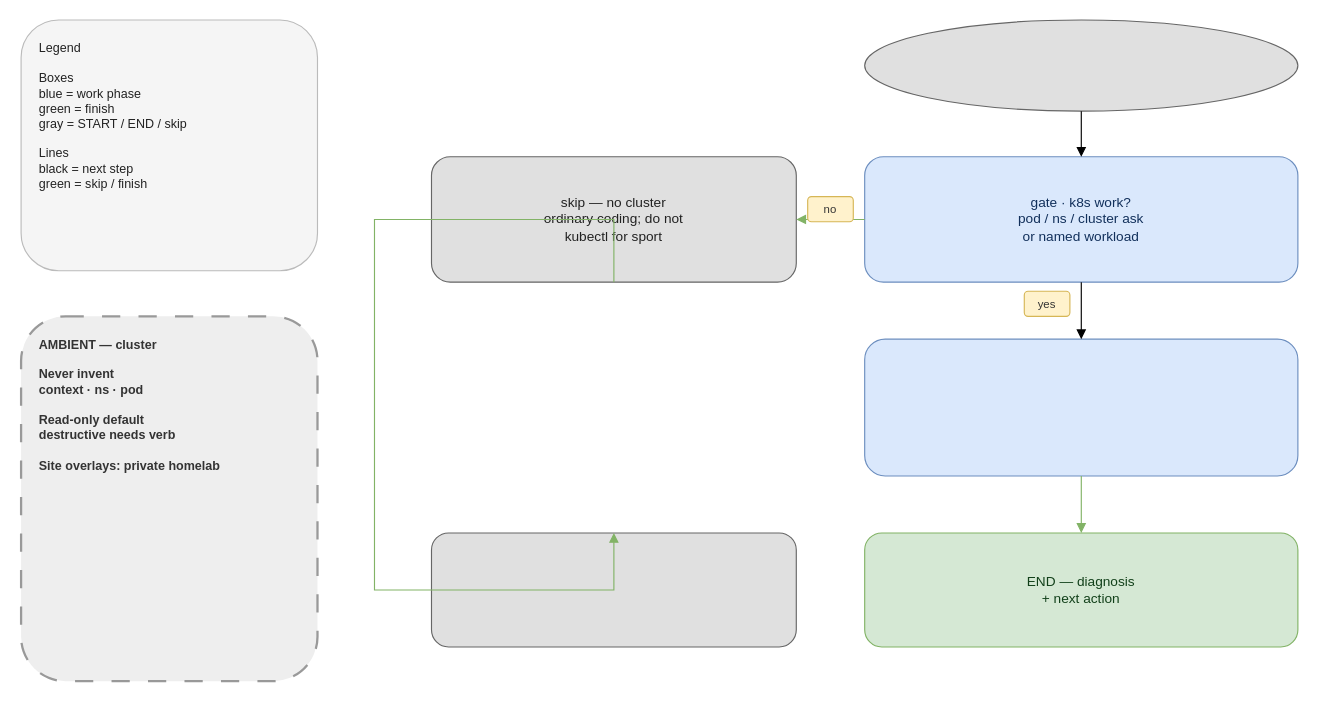
Image size: 1318x702. Some labels were removed from this diagram. Here are the shapes that lost their labels. From the top down, the box of each, then its label:
(864, 19, 1298, 111): START — user ask
(864, 338, 1298, 476): triage via MCP status · events · logs; safety for delete/exec
(430, 532, 796, 647): END — stay out
